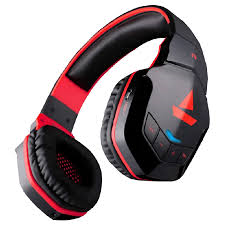headphone: (11, 1, 213, 222)
